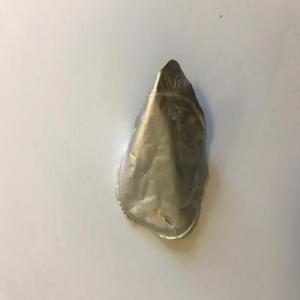Trash: (117, 59, 212, 241)
